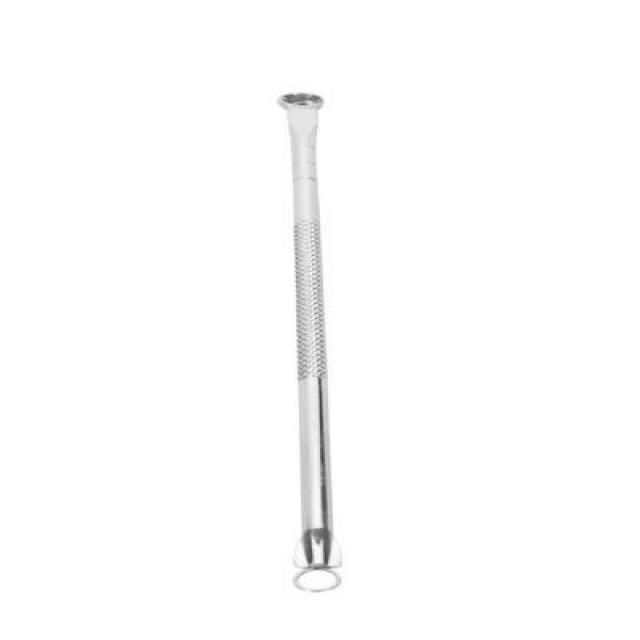Pole: (278, 93, 341, 592)
